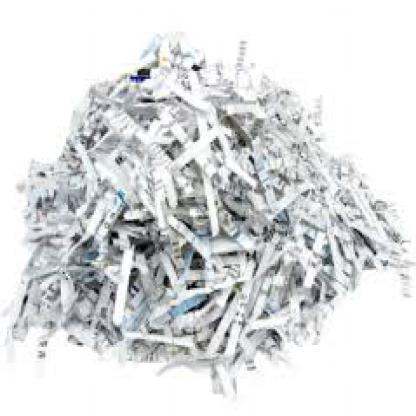paper: (9, 24, 414, 400)
